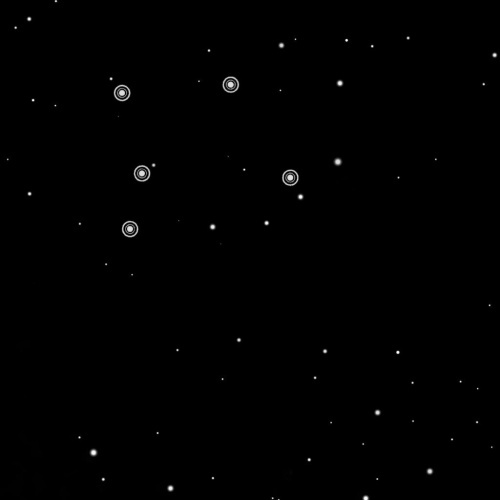libra: (106, 70, 301, 243)
